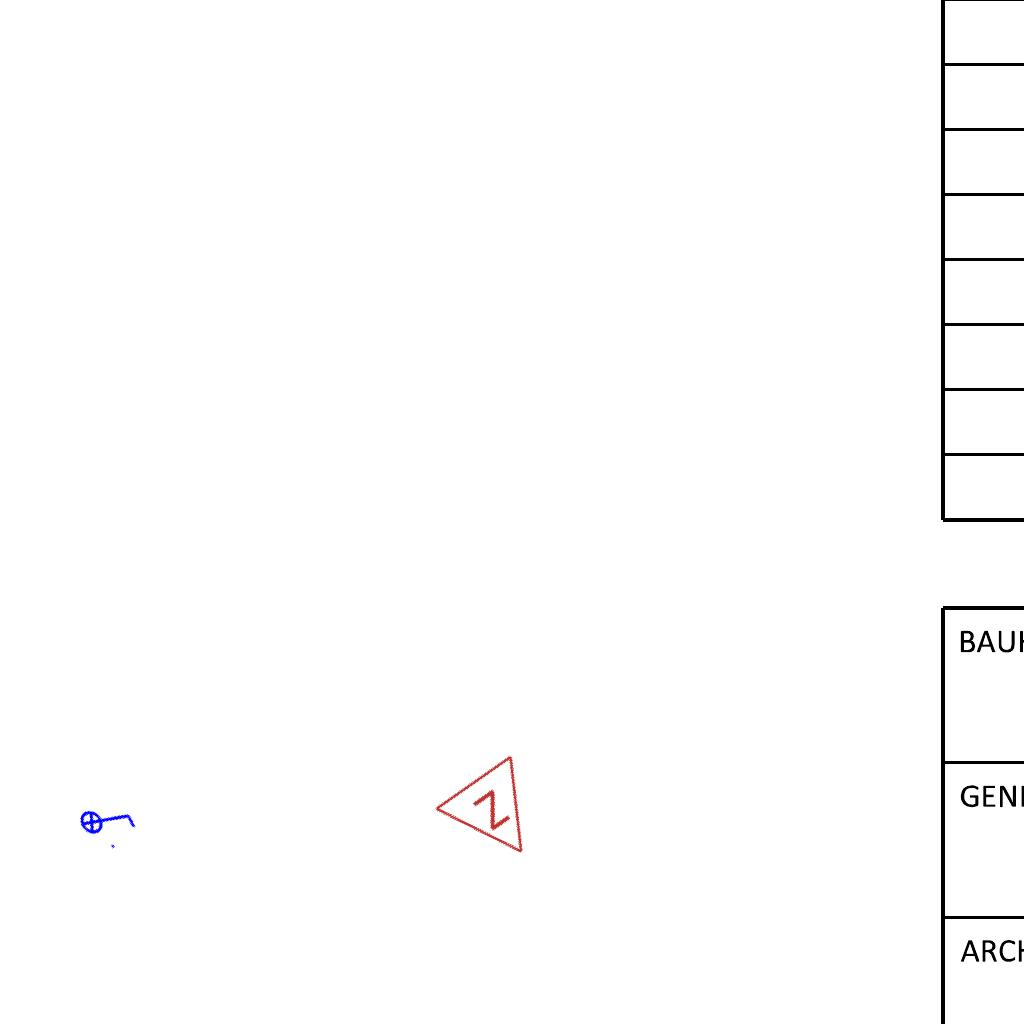Ausschalter_beleuchtet: (70, 783, 144, 857)
Zimmersignalleuchte: (429, 746, 567, 886)
